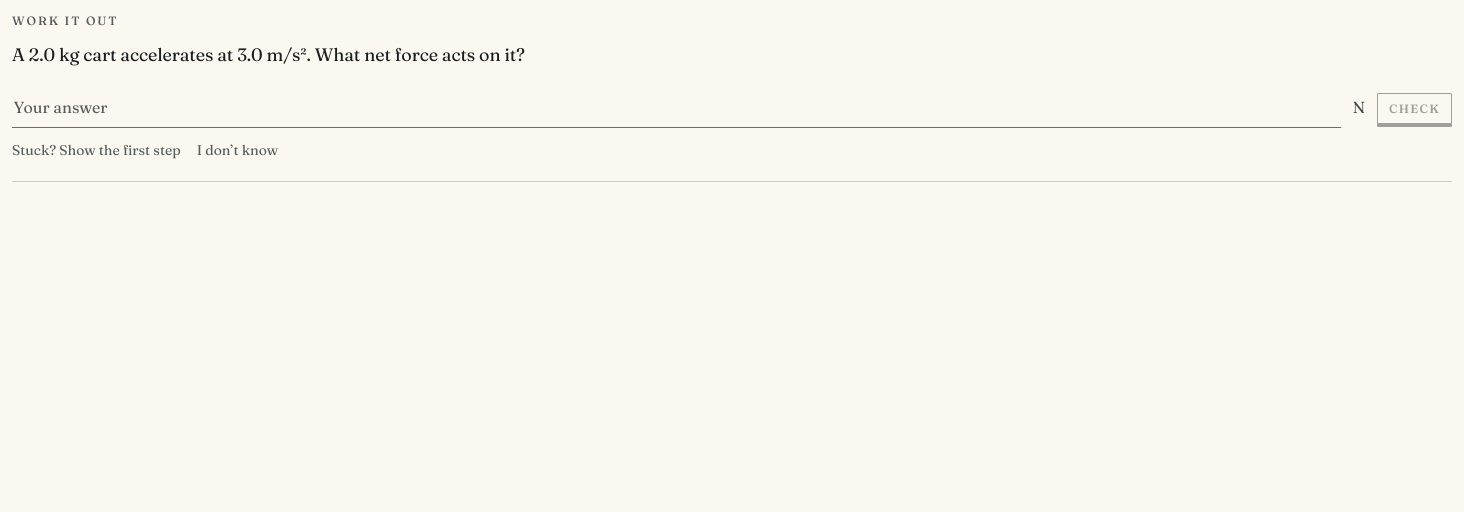
Test: ProblemCard, a number to check › names the mistake a wrong answer comes from
Type "6000" into the field named "Your answer, in N".
click(676, 108); type("6000")  # box [12,87,1341,128]
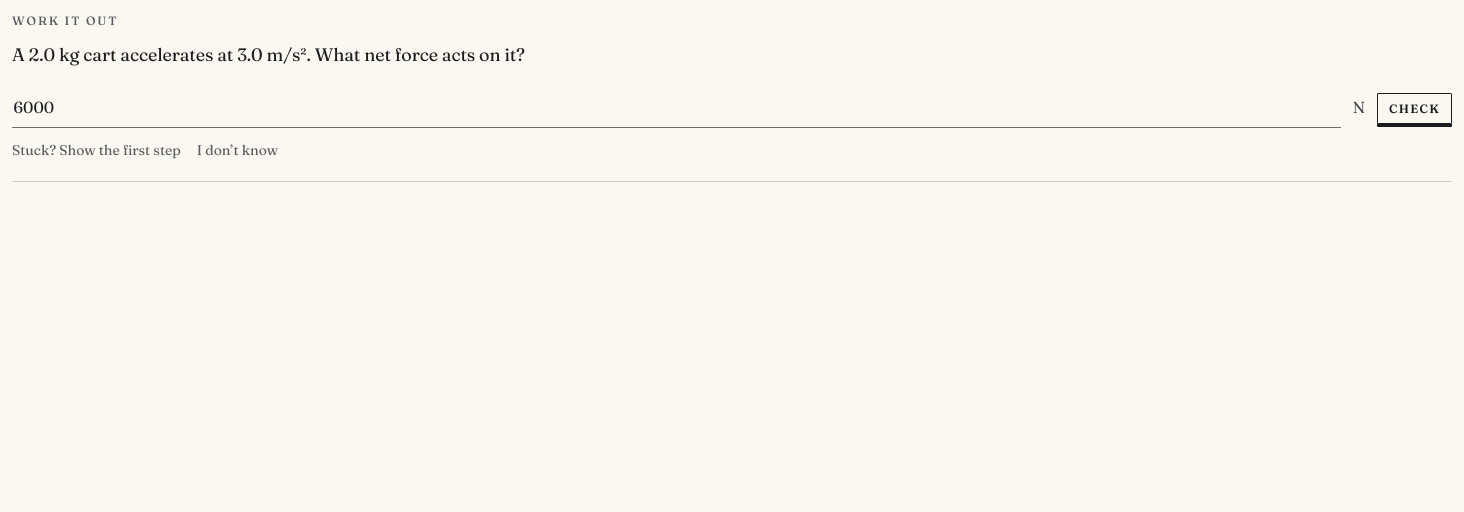
Click the button "Check".
click(1415, 108)  # box [1377,93,1452,124]
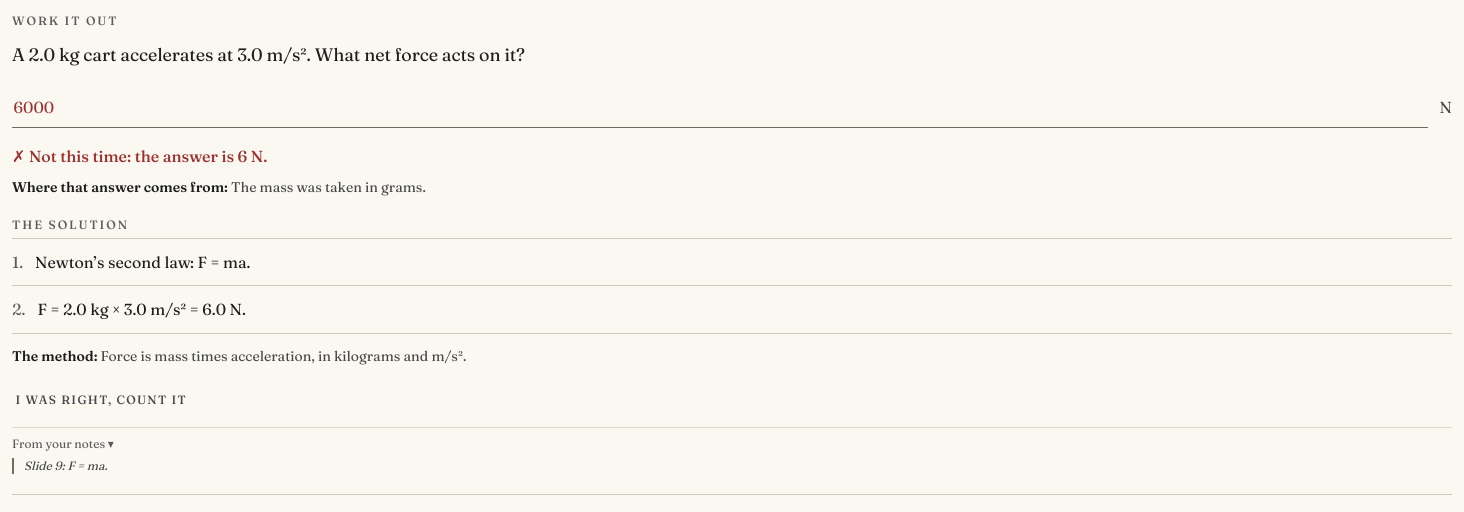
Expected: the text "✗ Not this time: the answer is 6 N." is shown, [12,146,267,166]
Expected: the text "Where that answer comes from: The mass was taken in grams." is shown, [12,178,426,196]
